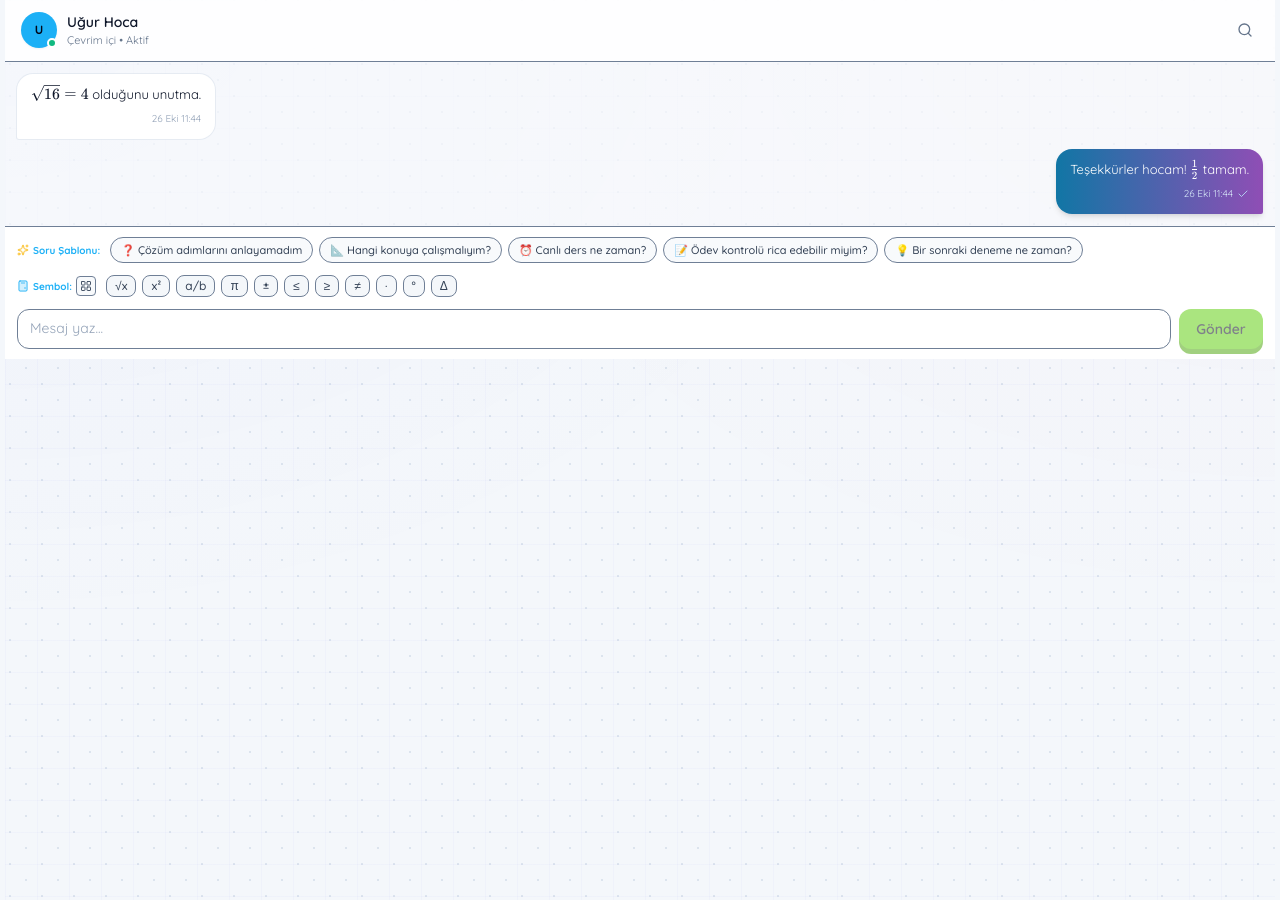
SupportChatPanel Component › sohbette ara butonuna tıklandığında arama çubuğunu açar ve filtreler
The width and height of the screenshot is (1280, 900).
Step 1. Click the button named "Sohbette ara" → (1245, 30), box [1231,16,1259,44]
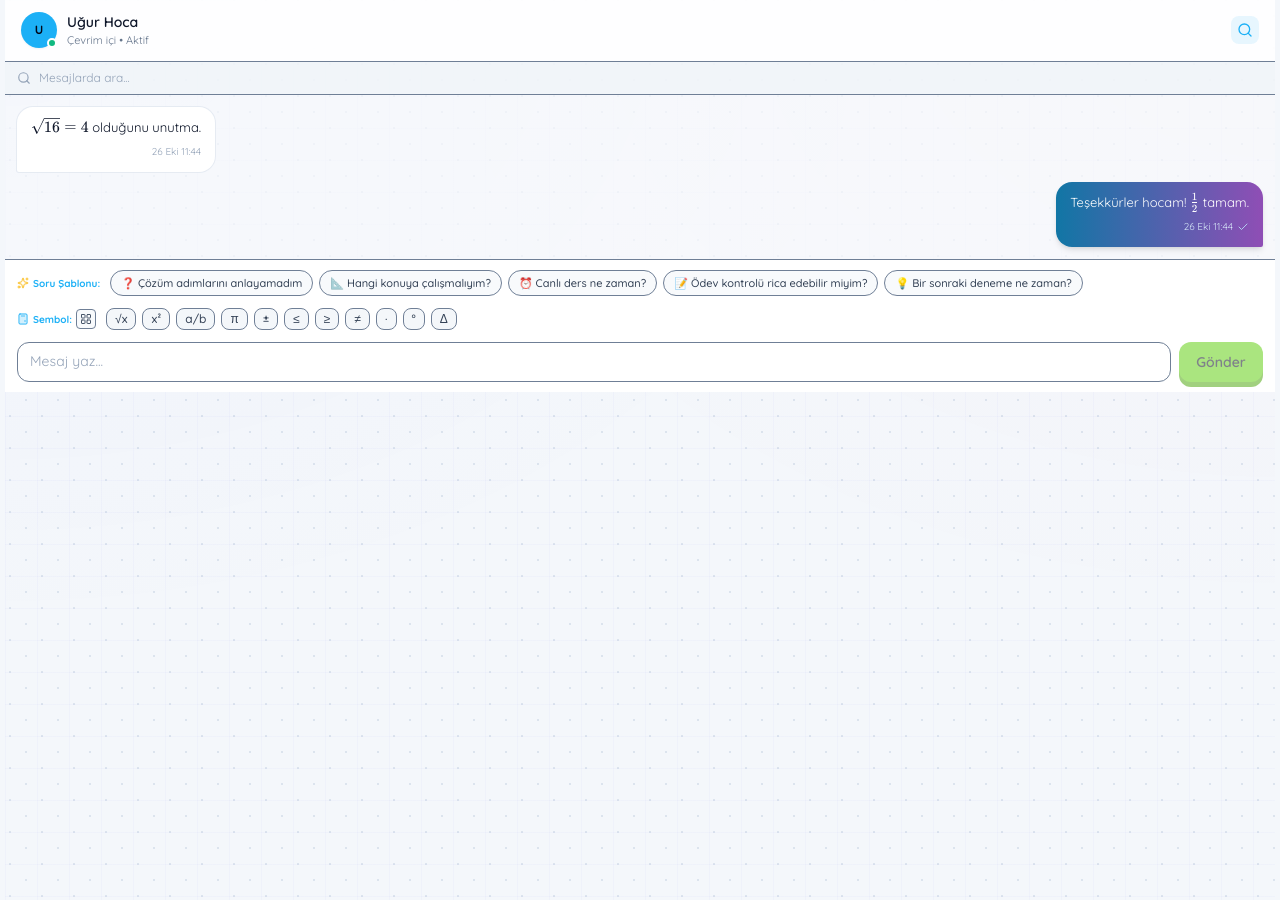
Now the field with placeholder "Mesajlarda ara..." is shown
Step 2. Type "Teşekkürler" into the field with placeholder "Mesajlarda ara..." → (651, 78), box [39,70,1263,86]
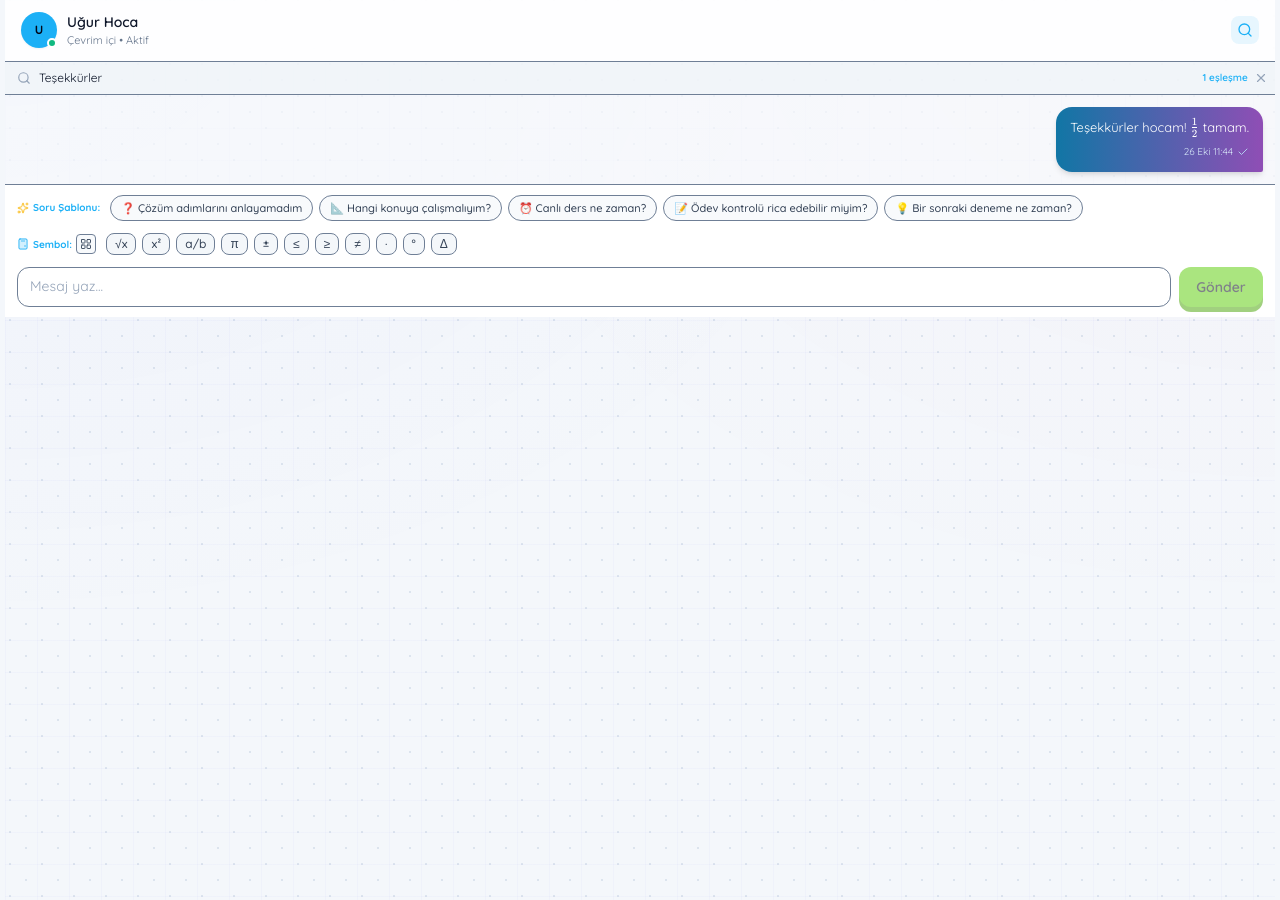
Now the text "1 eşleşme" is shown, box [1202,70,1248,86]
